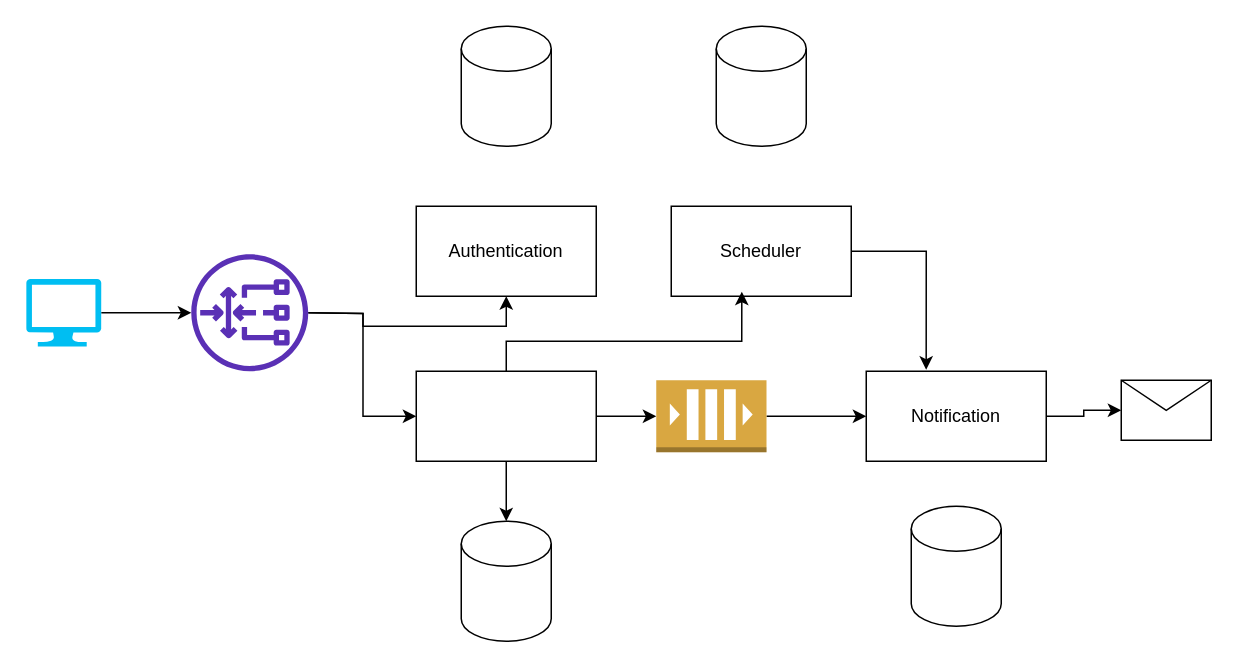
Image size: 1238x668. Some labels were removed from this diagram. Here are the shapes that lost their labels. From the top down, the centre of each, then its label:
At (63,312): "User".
At (505,415): "Booking".
